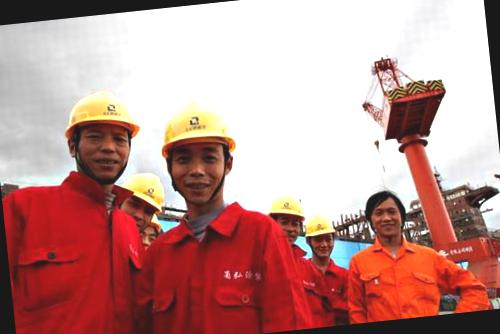no_helmet: (362, 188, 416, 244)
